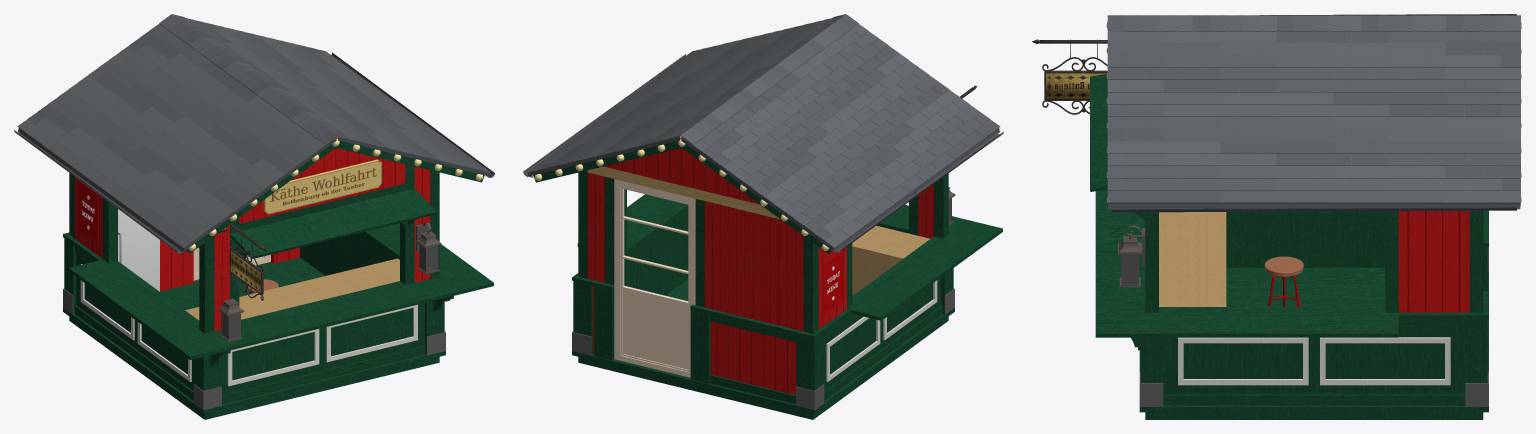
3 views of the same model, side by side, from view 1: azimuth 30°, elevation 25°; view 2: azimuth 150°, elevation 25°; view 3: azimuth 270°, elevation 25° (orthographic). The views are drawn at different scales.
Visible parts, largest first — view 1: Geom3D (×12), Geom3D_ (×12), Geom3D_Vách treo đèn#3 (×2), Geom3D_Component#171 (×2), Geom3D_Component#16 (×2), Geom3D_Bo goc (×3), Geom3D_Thanh dinh, Geom3D_Component#6, Geom3D_Thanh dinh#1, Geom3D_Component#226, Geom3D_Component#17 (×2), Geom3D_Component#231; view 2: Geom3D (×9), Geom3D_ (×13), Geom3D_Vách treo đèn#1, Geom3D_Component#169, Geom3D_Component#171 (×3), Geom3D_Bo goc (×2), Geom3D_Component#7 (×2), Geom3D_Vách treo đèn#2, Geom3D_Thanh dinh#3 (×2), Geom3D_Component#17 (×2), Geom3D_Thanh dinh#1, Geom3D_Vách treo đèn#3; view 3: Geom3D (×10), Geom3D_ (×8), Geom3D_Component#17 (×2), Geom3D_Thanh dinh#1 (×2), Geom3D_Component#171 (×2), Geom3D_Bo goc (×2), Geom3D_Component#231.
Part boxes in pixels (x1,y1,x2,y2): Geom3D (×12): (14, 14, 494, 410); Geom3D_ (×12): (63, 138, 493, 419); Geom3D_Vách treo đèn#3 (×2): (214, 166, 430, 331); Geom3D_Component#171 (×2): (199, 170, 439, 333); Geom3D_Component#16 (×2): (227, 304, 417, 386); Geom3D_Bo goc (×3): (64, 238, 444, 390); Geom3D_Thanh dinh: (222, 346, 425, 404); Geom3D_Component#6: (239, 183, 405, 230); Geom3D_Thanh dinh#1: (75, 305, 193, 400); Geom3D_Component#226: (400, 164, 414, 284); Geom3D_Component#17 (×2): (80, 264, 191, 381); Geom3D_Component#231: (103, 198, 117, 263); Geom3D (×9): (523, 14, 1003, 410); Geom3D_ (×13): (533, 138, 1002, 419); Geom3D_Vách treo đèn#1: (705, 201, 803, 331); Geom3D_Component#169: (616, 181, 693, 377); Geom3D_Component#171 (×3): (578, 170, 948, 333); Geom3D_Bo goc (×2): (573, 281, 823, 390); Geom3D_Component#7 (×2): (605, 176, 704, 307); Geom3D_Vách treo đèn#2: (587, 172, 604, 282); Geom3D_Thanh dinh#3 (×2): (709, 314, 796, 404); Geom3D_Component#17 (×2): (826, 280, 937, 381); Geom3D_Thanh dinh#1: (824, 305, 942, 400); Geom3D_Vách treo đèn#3: (918, 184, 933, 238); Geom3D (×10): (1045, 14, 1520, 406); Geom3D_ (×8): (1090, 74, 1488, 419); Geom3D_Component#17 (×2): (1178, 337, 1450, 385); Geom3D_Thanh dinh#1 (×2): (1163, 319, 1465, 405); Geom3D_Component#171 (×2): (1145, 210, 1483, 312); Geom3D_Bo goc (×2): (1140, 319, 1487, 382); Geom3D_Component#231: (1385, 211, 1398, 312).
Bounding box in the file's own units: 4.06 × 3.26 × 4.35.
Materials: 38 (11 with a texture image).
